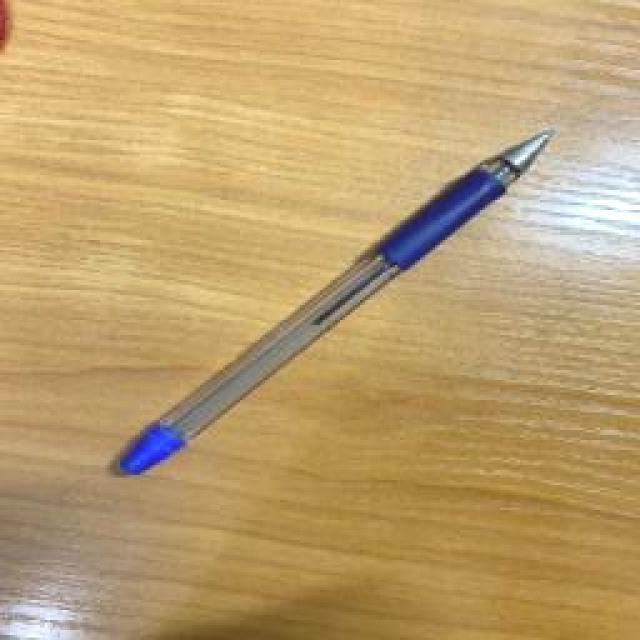pen: (115, 125, 558, 478)
